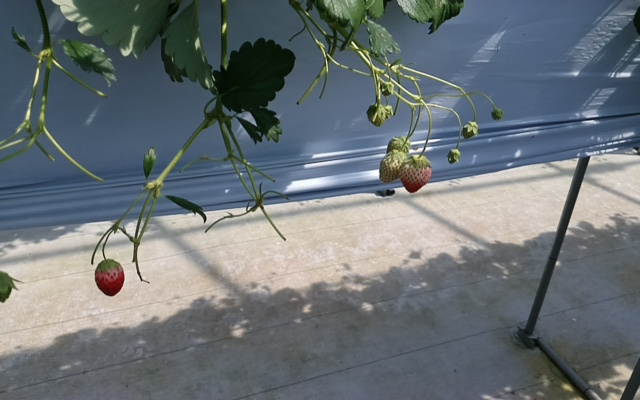GreenStrawberry: (401, 156, 435, 194), (377, 150, 405, 183), (385, 138, 408, 153)
MatureStrawberry: (93, 259, 125, 299)
